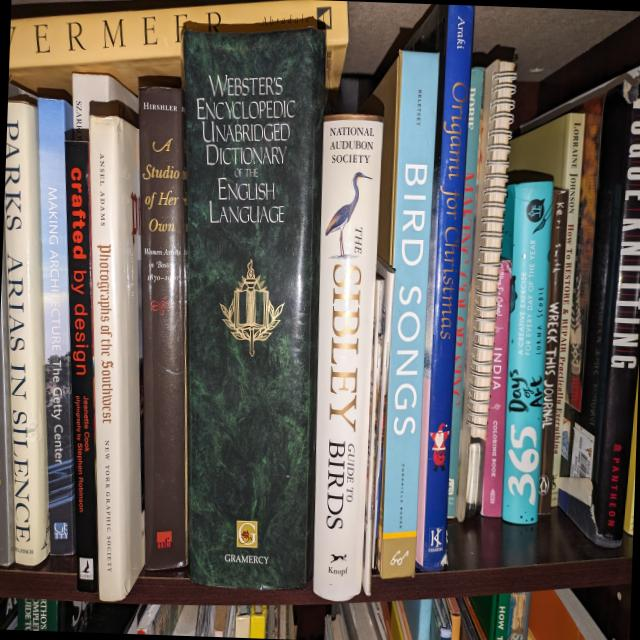book: (177, 26, 326, 590), (388, 3, 474, 573), (349, 48, 438, 580), (556, 66, 640, 547), (307, 113, 383, 601), (7, 0, 350, 96), (88, 100, 145, 601), (138, 75, 190, 570), (0, 95, 51, 567), (496, 173, 553, 524), (443, 66, 484, 518), (539, 111, 585, 507), (37, 98, 75, 556), (64, 139, 99, 592), (534, 188, 569, 514), (480, 259, 513, 518)
